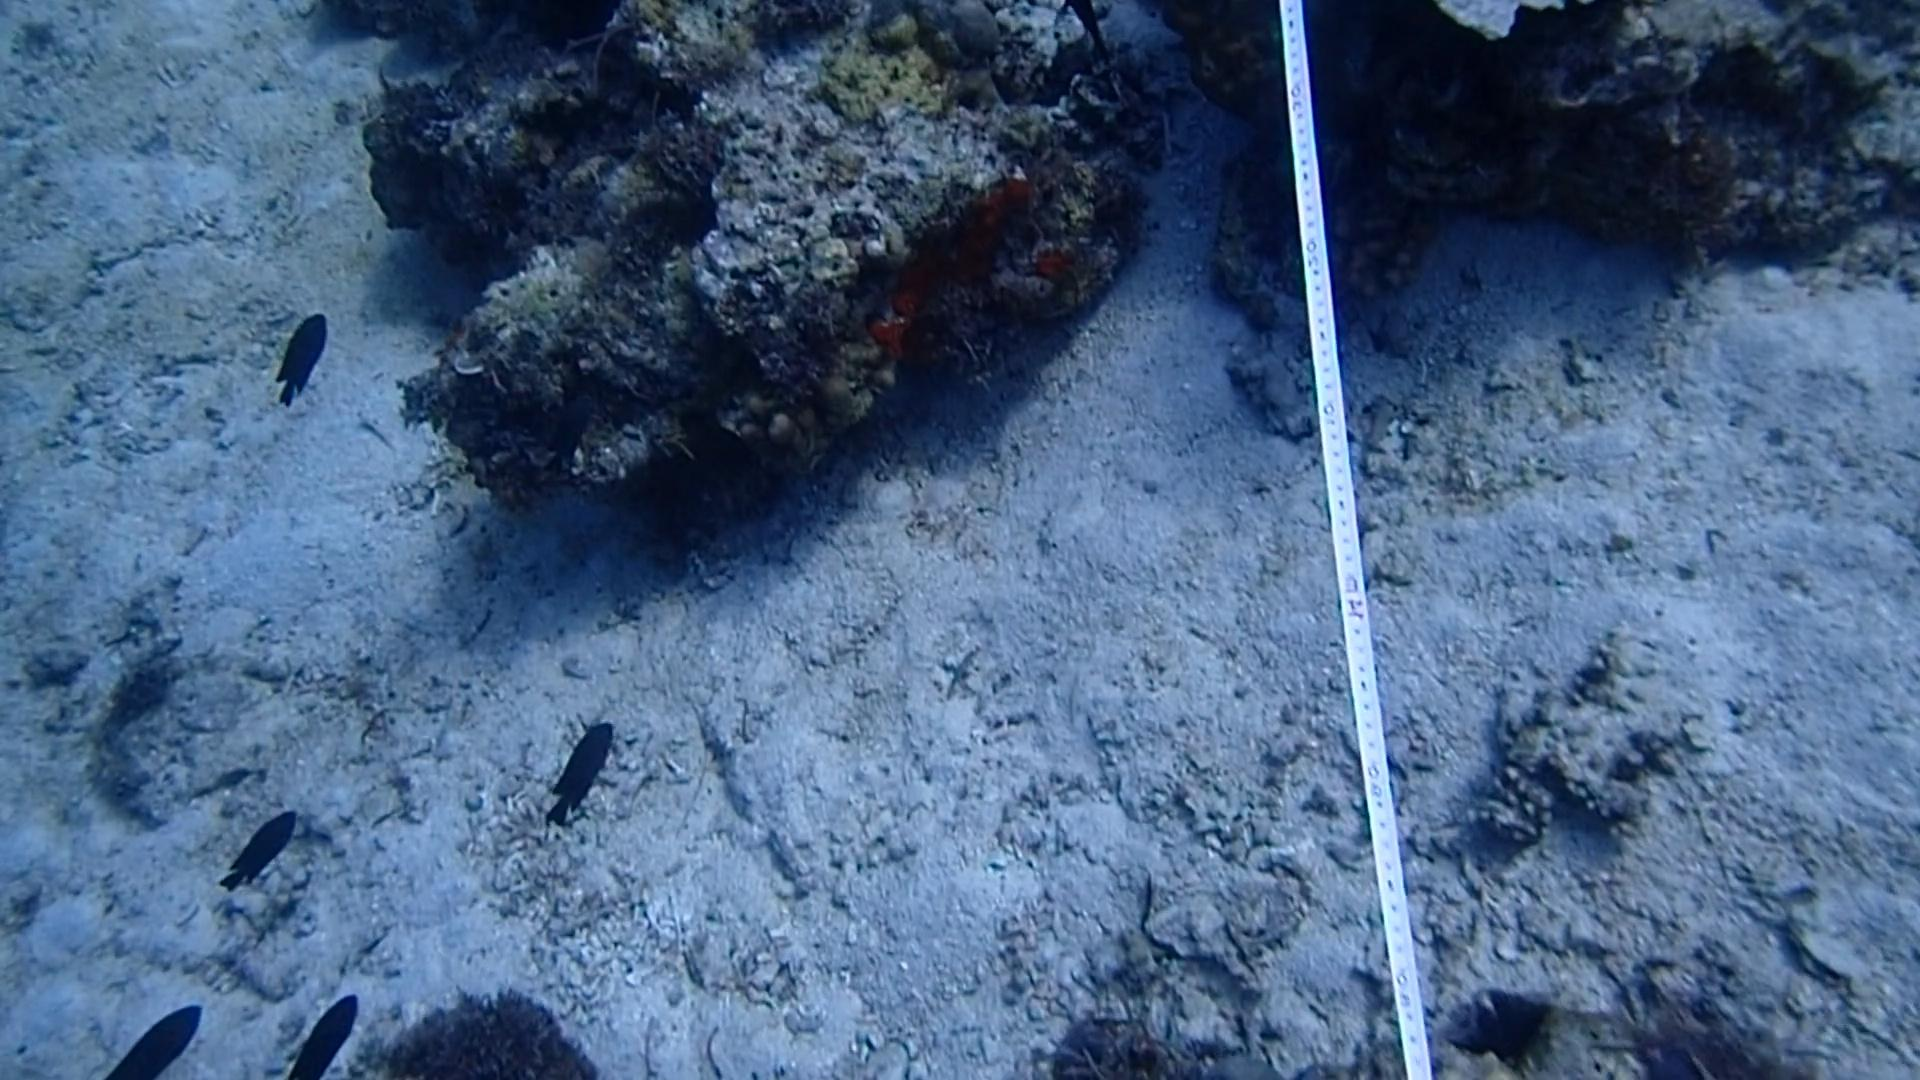Dark Fish: (537, 712, 628, 825), (211, 800, 307, 898), (278, 982, 375, 1080), (105, 997, 211, 1080), (269, 302, 336, 414)
